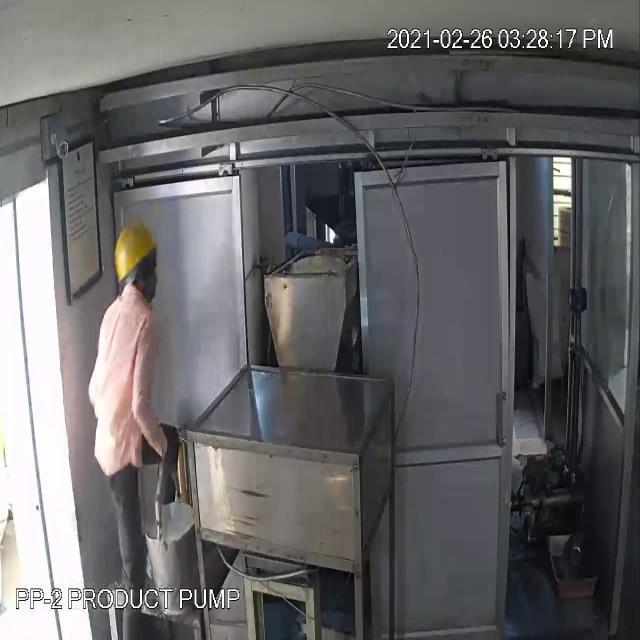hat: (108, 214, 158, 279)
